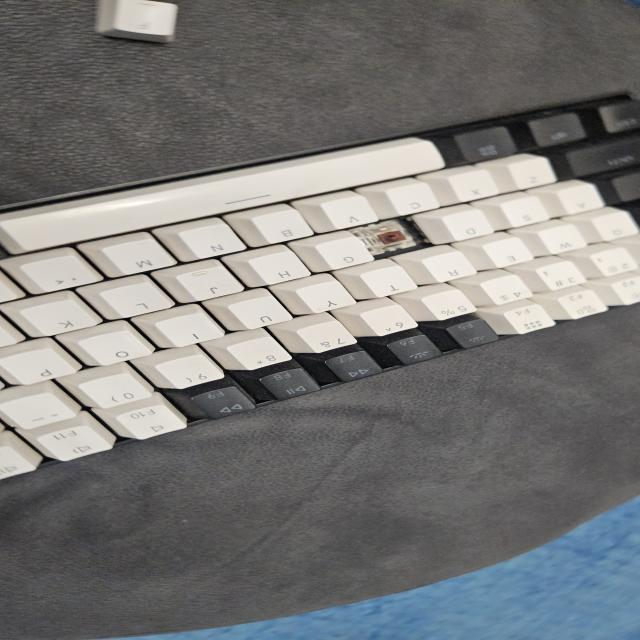C: (363, 228, 420, 251)
